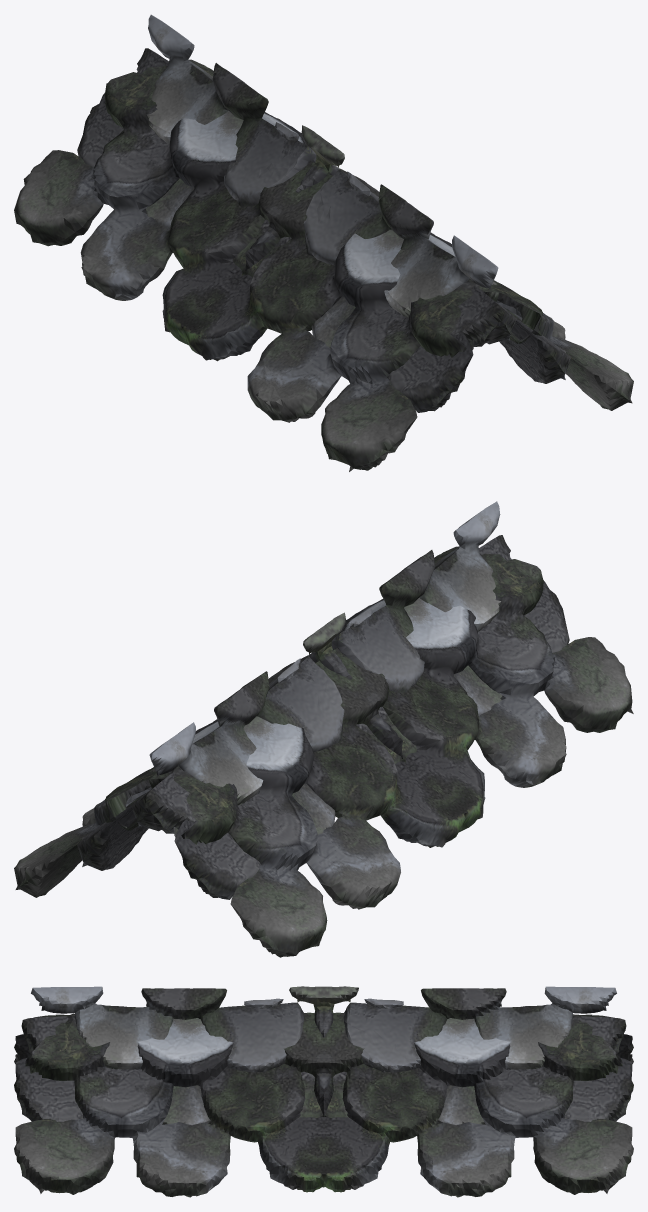
File: SM_Roof_Cap_04.fbx
3 views of the same model, one above another, from view 1: azimuth 30°, elevation 25°; view 2: azimuth 150°, elevation 25°; view 3: azimuth 270°, elevation 25° (orthographic). The views are drawn at different scales.
Visible parts, largest first — view 1: SM_Roof_Cap_04_LOD0; view 2: SM_Roof_Cap_04_LOD0; view 3: SM_Roof_Cap_04_LOD0.
Boxes of the visible parts, bbox=[...] form: SM_Roof_Cap_04_LOD0: bbox=[14, 14, 633, 471]; SM_Roof_Cap_04_LOD0: bbox=[14, 501, 633, 957]; SM_Roof_Cap_04_LOD0: bbox=[14, 986, 633, 1197].
Size of the model in its own units: 92.16 by 194 by 54.64.
